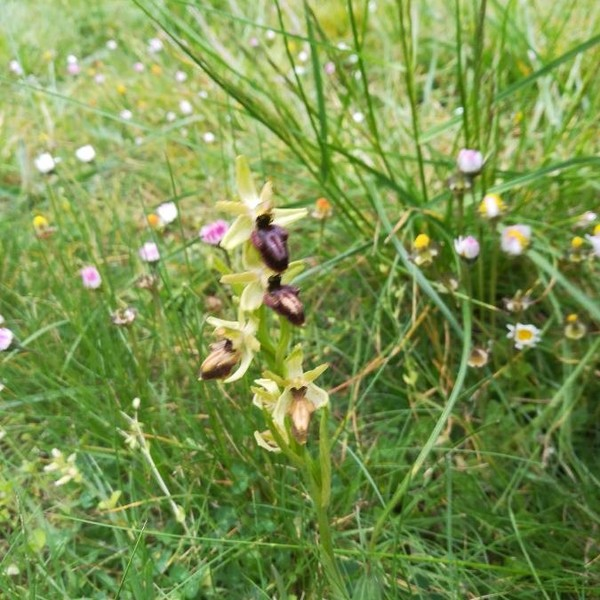obstacle: (161, 64, 554, 460)
